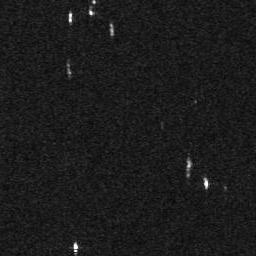ship: (72, 240, 81, 255), (203, 175, 210, 192), (68, 11, 73, 24)
